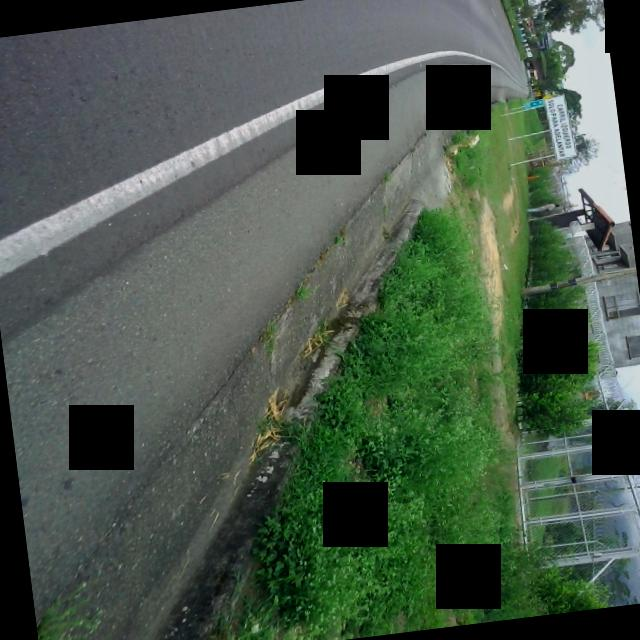DITCH: (0, 55, 594, 640)
